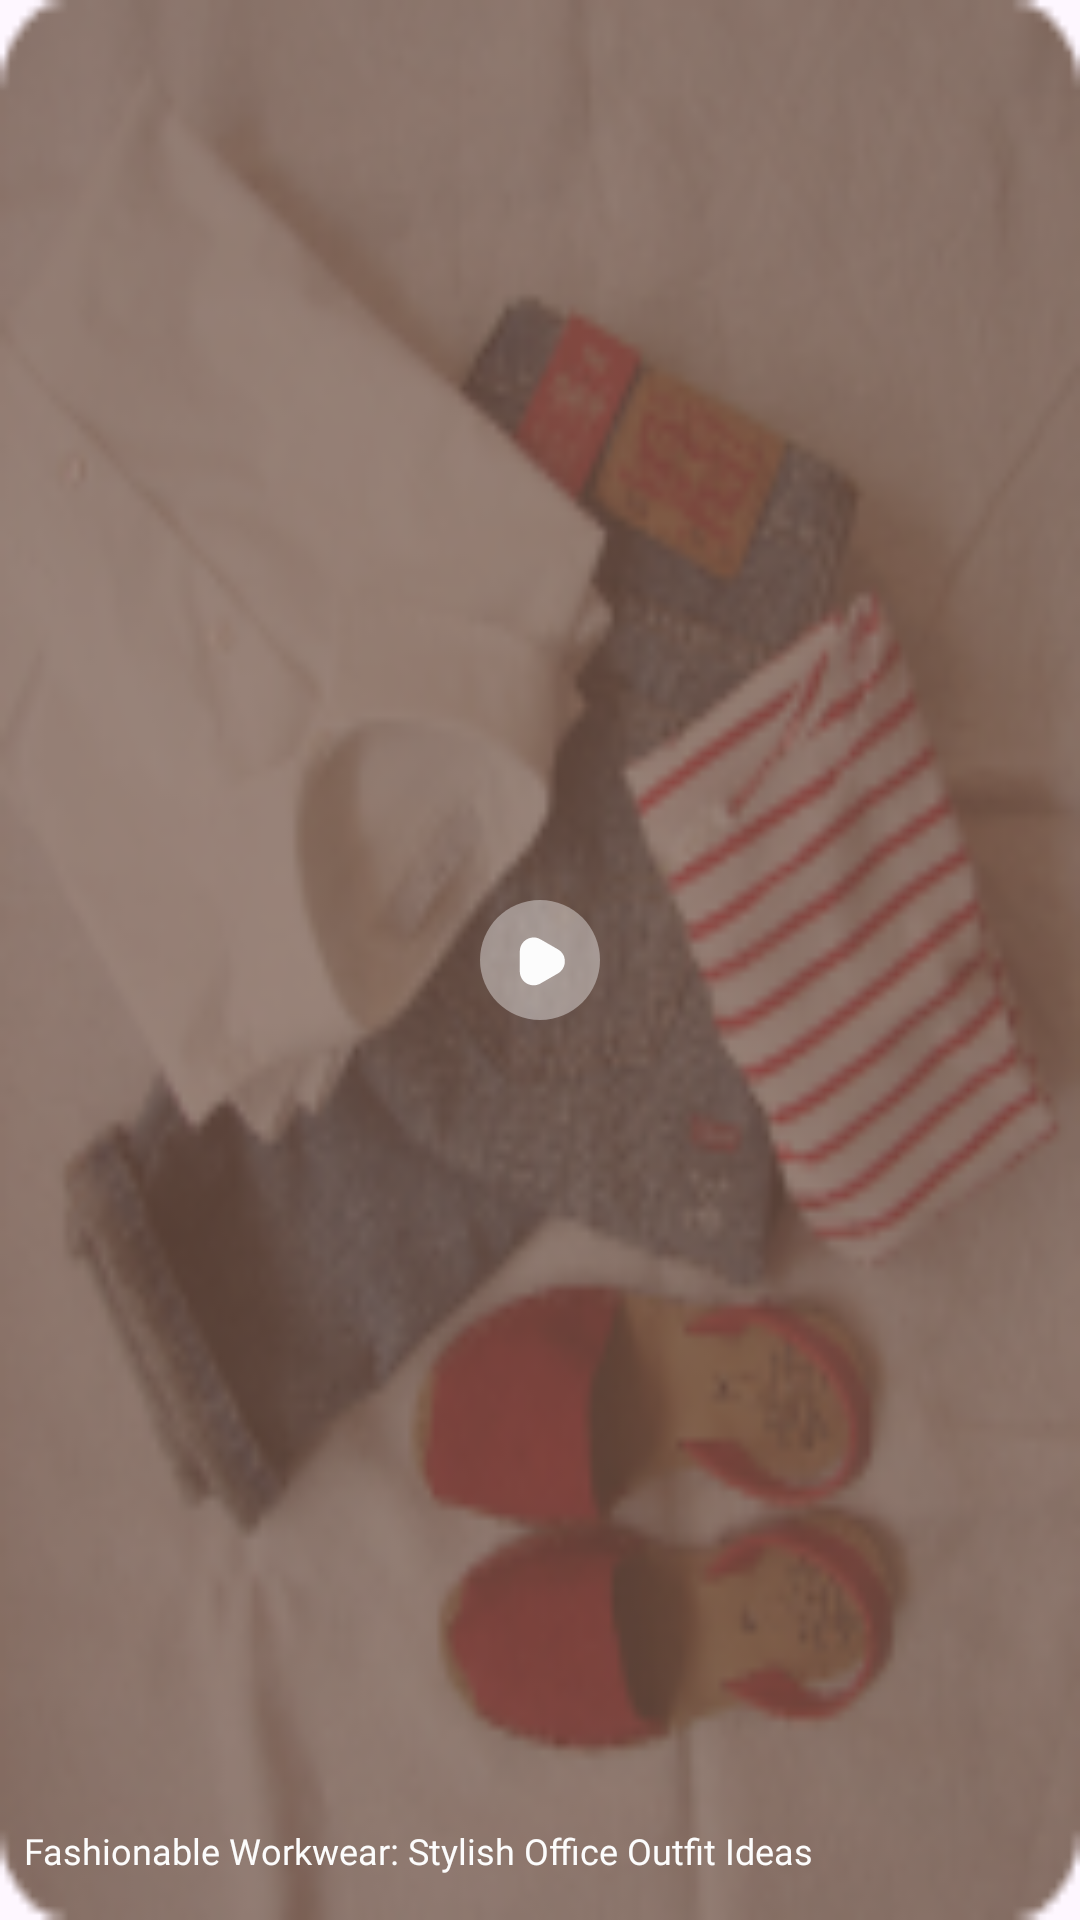

Named icons in this screenshot (1080x1920) and their centers, [x,y]:
play: [540,960]
